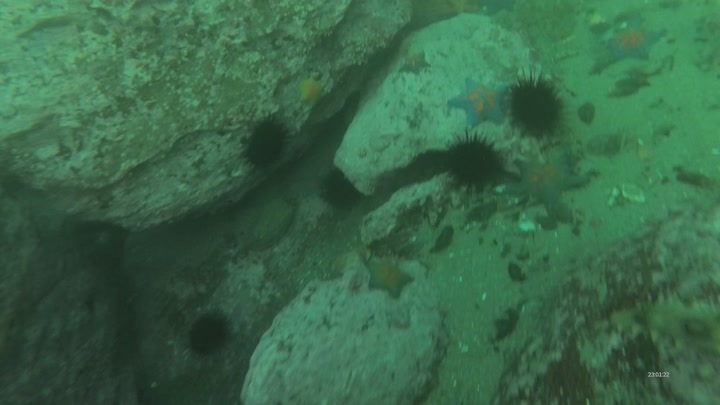echinus: (504, 67, 572, 142), (443, 129, 507, 200), (233, 113, 298, 177), (181, 307, 239, 364), (317, 168, 373, 216)
holothurian: (615, 285, 720, 360)
starfish: (510, 150, 592, 214), (604, 11, 670, 68), (448, 77, 512, 132), (364, 258, 416, 301), (297, 76, 328, 108), (399, 49, 432, 79)
